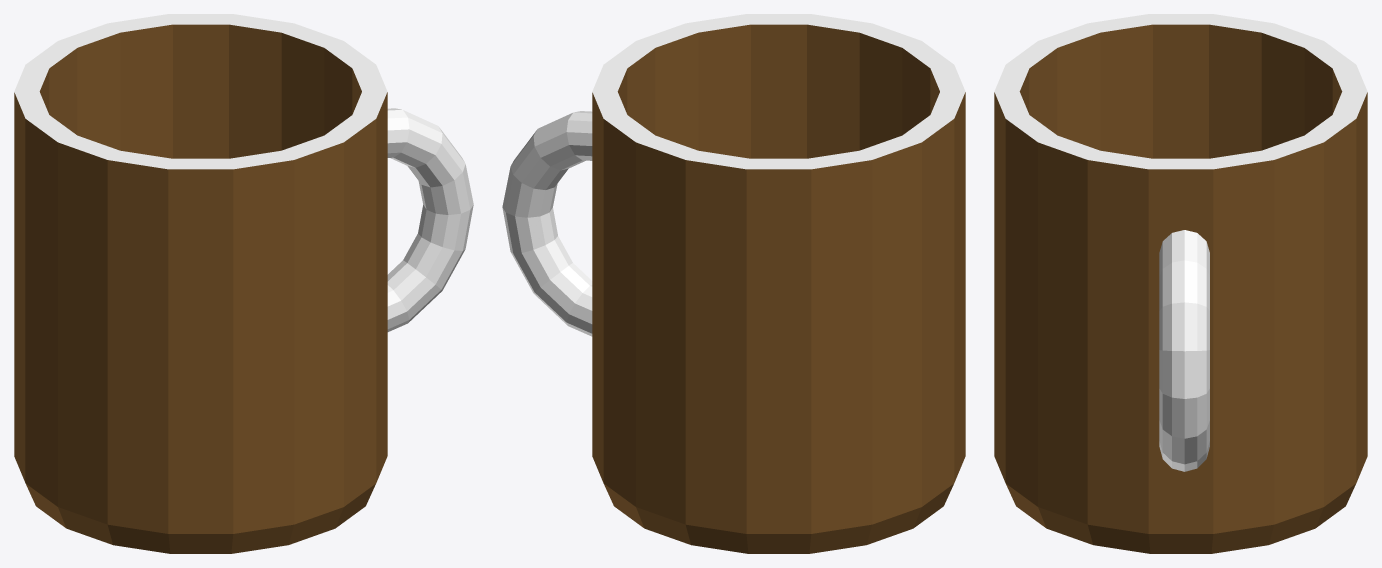
Rendered from Cup_4.fbx.
3 renders of one model, left to right at view 1: azimuth 30°, elevation 25°; view 2: azimuth 150°, elevation 25°; view 3: azimuth 270°, elevation 25°, orthographic.
Visible parts, largest first — view 1: Cup_4; view 2: Cup_4; view 3: Cup_4.
Boxes of the visible parts, bbox=[...] form: Cup_4: bbox=[14, 14, 473, 553]; Cup_4: bbox=[502, 14, 965, 553]; Cup_4: bbox=[994, 14, 1367, 553].
Bounding box in the file's own units: 0.0959 × 0.0828 × 0.072.
